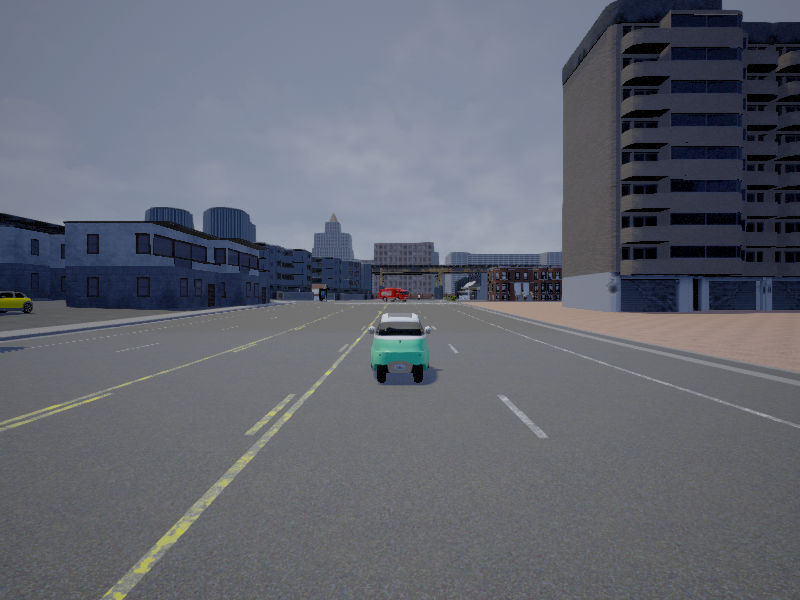Benign: (369, 313, 432, 384), (1, 290, 34, 312), (379, 287, 411, 304)
